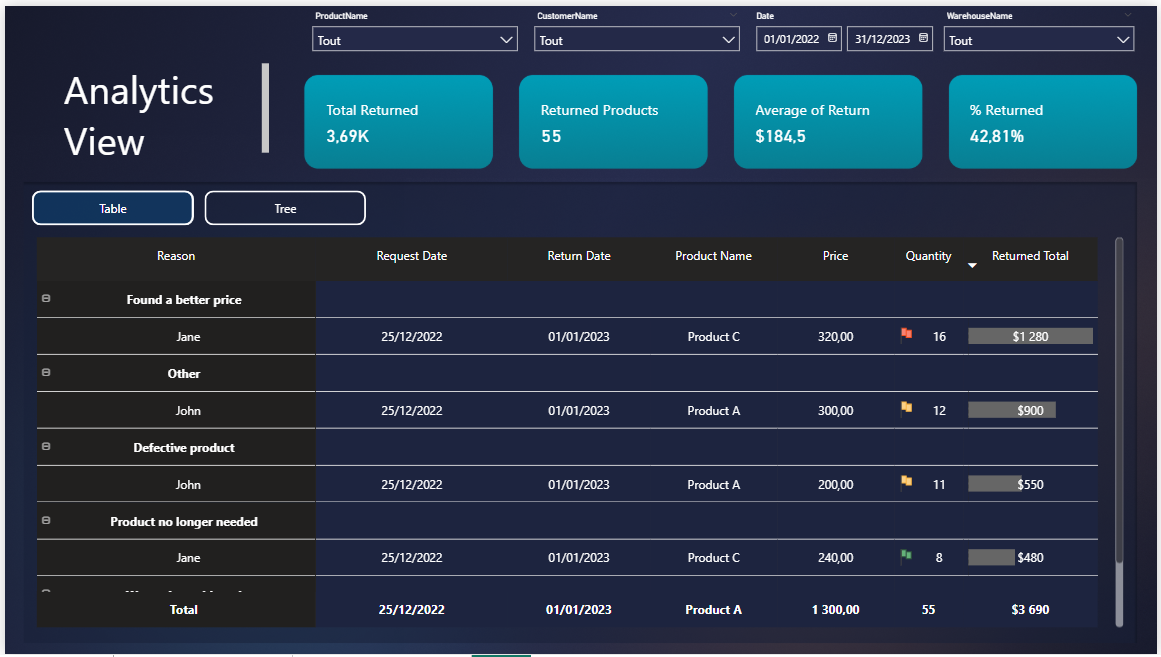

The dashboard page shown, as its layout file describes it:
{"tool":"powerbi","page":{"name":"Analytics View","canvas":[1280,720],"ordinal":1},"visuals":[{"type":"textbox","box":[60,59,238,116],"z":0},{"type":"cardVisual","fields":{"Data":["MeasuresTable.Total Returned"]},"box":[339.8,79.6,192.3,98.3],"z":1000},{"type":"cardVisual","fields":{"Data":["MeasuresTable.Number_Returned_Products"]},"box":[578,80,192,98],"z":2000},{"type":"cardVisual","fields":{"Data":["MeasuresTable.AverageReturnedVAlue"]},"box":[816,80,192,98],"z":3000},{"type":"cardVisual","fields":{"Data":["MeasuresTable.% RETURNED"]},"box":[1055,80,192,98],"z":4000},{"type":"pivotTable","fields":{"Rows":["D_REASON.ReasonDescription","D_PRODUCT.Manager"],"Values":["F_RETURN PRODUCTS.RequestDate","F_RETURN PRODUCTS.ReturnDate","D_PRODUCT.ProductName","F_RETURN PRODUCTS.PRICE","F_RETURN PRODUCTS.Quantity","F_RETURN PRODUCTS.Returned_Total"]},"box":[30,252.2,1217.8,443.3],"z":6000},{"type":"actionButton","title":"BTABLE","box":[30,205.6,180,38.9],"z":7000},{"type":"actionButton","title":"BTABLE-COLOR","box":[30,205.6,180,38.8],"z":8000},{"type":"actionButton","title":"TREE","box":[221.2,204.4,180,38.8],"z":9000},{"type":"slicer","fields":{"Values":["D_PRODUCT.ProductName"]},"box":[331.5,0,247.8,69.4],"z":11000},{"type":"slicer","fields":{"Values":["D_CUSTOMER.CustomerName"]},"box":[579,0,248.3,69.2],"z":12000},{"type":"slicer","fields":{"Values":["D_CALENDAR.Date"]},"box":[822.1,0,247.8,69.4],"z":13000},{"type":"slicer","fields":{"Values":["D_PRODUCT.WarehouseName"]},"box":[1033.2,0,231.5,69.4],"z":14000}]}

Visuals, with their boxes in screenshot pixels (x1, y1, x2, y2), scaled from the page's 1280x720 canvas onto the 1161x657 screenshot:
textbox: 54/54/270/160
cardVisual - MeasuresTable.Total Returned: 308/73/483/162
cardVisual - MeasuresTable.Number_Returned_Products: 524/73/698/162
cardVisual - MeasuresTable.AverageReturnedVAlue: 740/73/914/162
cardVisual - MeasuresTable.% RETURNED: 957/73/1131/162
pivotTable - D_REASON.ReasonDescription x D_PRODUCT.Manager: 27/230/1132/635
"BTABLE" actionButton: 27/188/190/223
"BTABLE-COLOR" actionButton: 27/188/190/223
"TREE" actionButton: 201/187/364/222
slicer - D_PRODUCT.ProductName: 301/0/525/63
slicer - D_CUSTOMER.CustomerName: 525/0/750/63
slicer - D_CALENDAR.Date: 746/0/970/63
slicer - D_PRODUCT.WarehouseName: 937/0/1147/63
